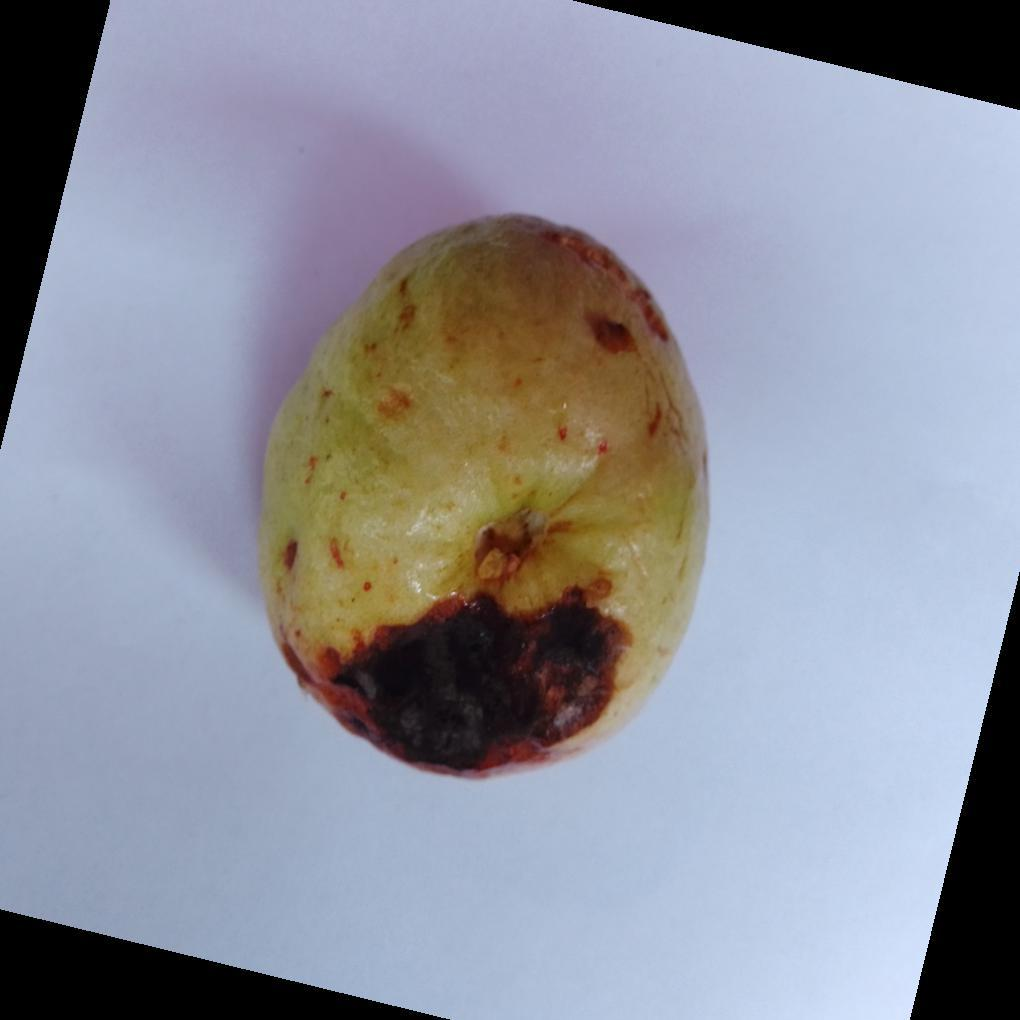FreshOrange: (256, 215, 712, 783)
